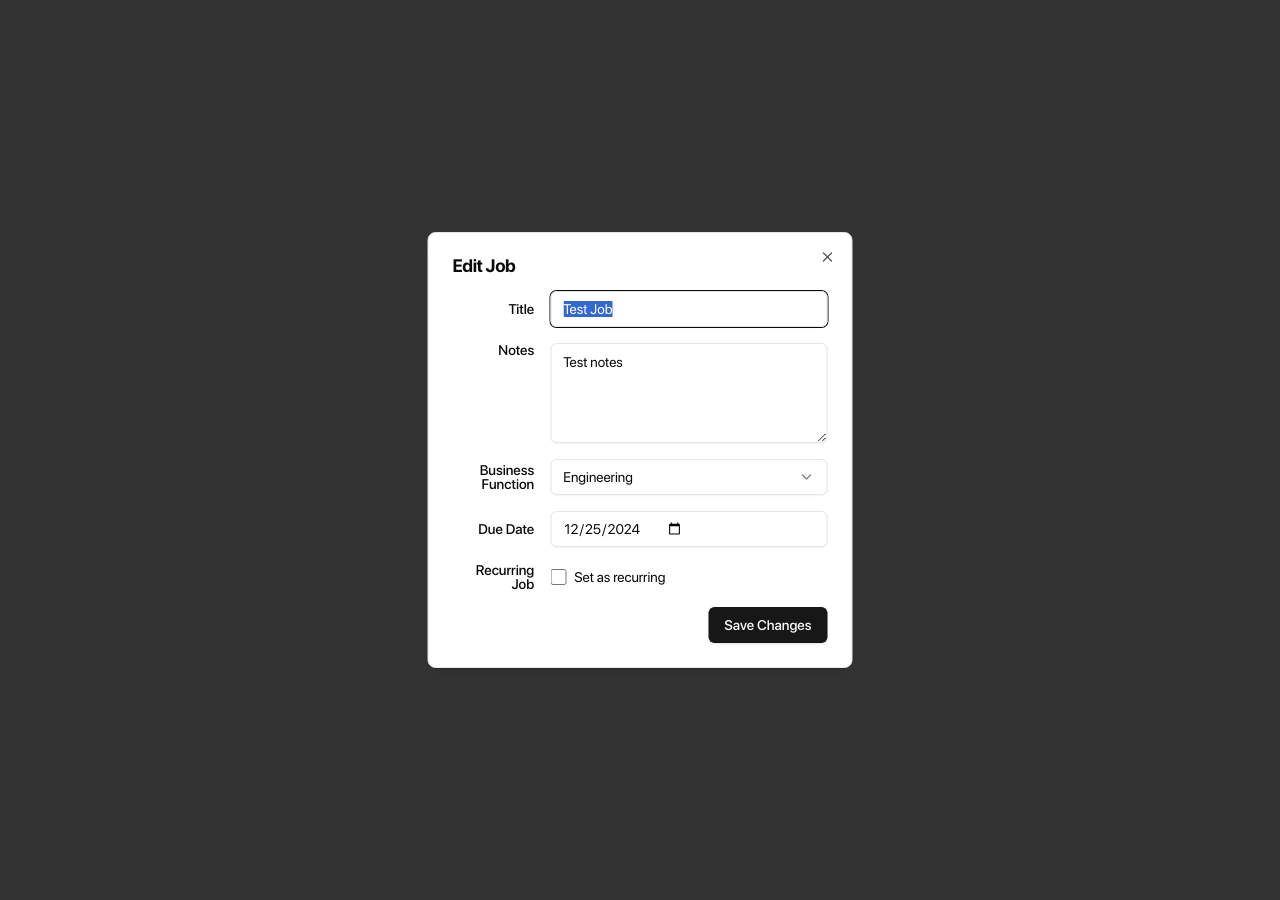
Test: JobDialog › Form Submission › shows correct loading text in edit mode
The width and height of the screenshot is (1280, 900).
Click the button "Save Changes" at (768, 625), box [708,607,828,643]
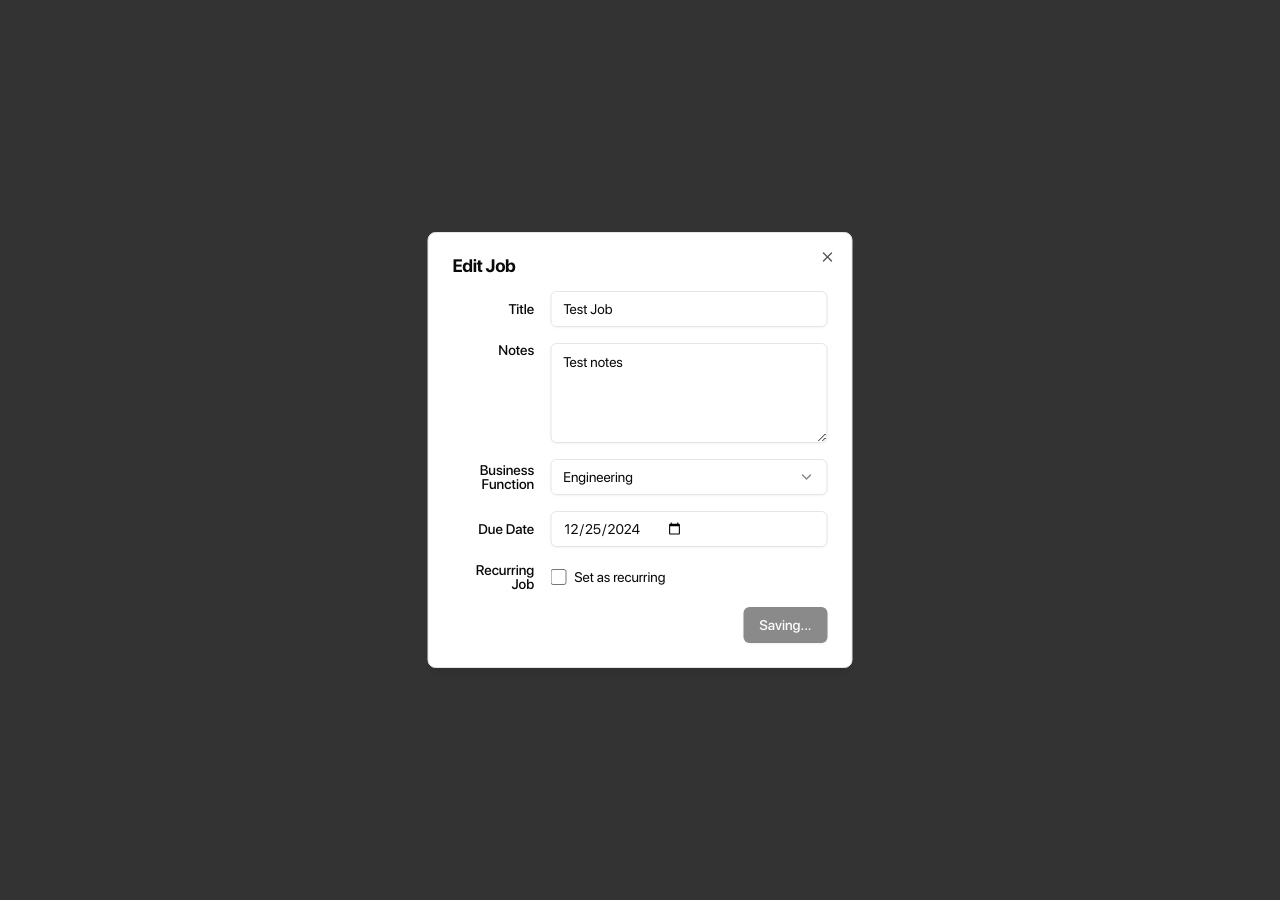
Now the button "Saving..." is shown, box [743,607,828,643]
